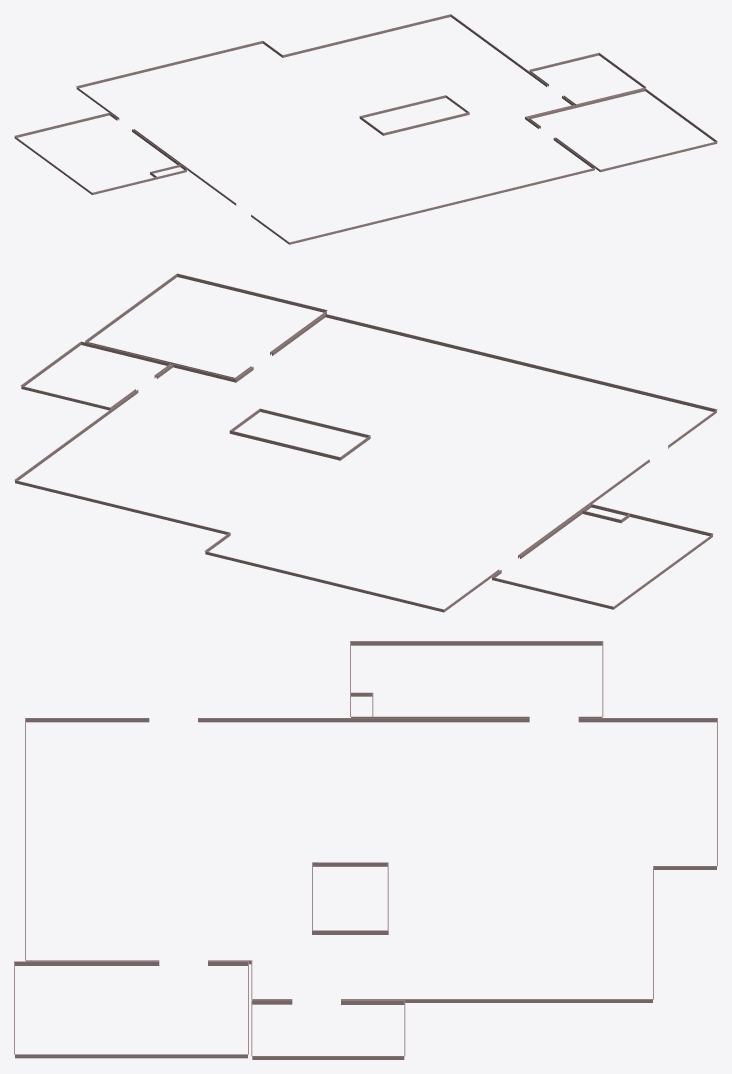
File: plint.fbx
The picture shows the model from 3 angles, top to bottom: view 1: azimuth 30°, elevation 25°; view 2: azimuth 150°, elevation 25°; view 3: azimuth 270°, elevation 25°; orthographic projection. The views are drawn at different scales.
Parts seen in each view (by area): view 1: plint; view 2: plint; view 3: plint.
Part boxes in pixels (bbox=[...]): plint: bbox=[14, 14, 717, 244]; plint: bbox=[14, 273, 717, 612]; plint: bbox=[14, 641, 717, 1059].
Size of the model in its own units: 3071 by 13.82 by 2201.
